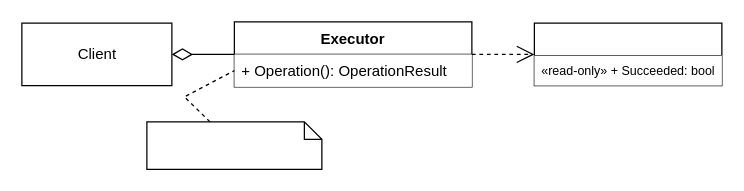
Image size: 744x191. Some labels were removed from this diagram. Here are the shapes that lost their labels. From the top down, the box of each, then its label:
(533, 22, 722, 86): OperationResult
(146, 121, 322, 169): Operation() returns a new OperationResult();
